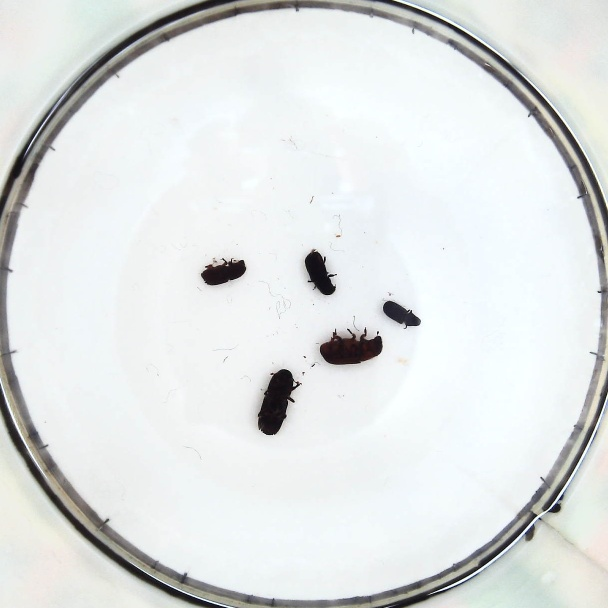armandi: (303, 250, 337, 296)
boerner: (259, 367, 294, 433)
coleoptera: (381, 297, 420, 332)
leconte: (320, 329, 383, 365)
linnaeus: (201, 260, 244, 285)
